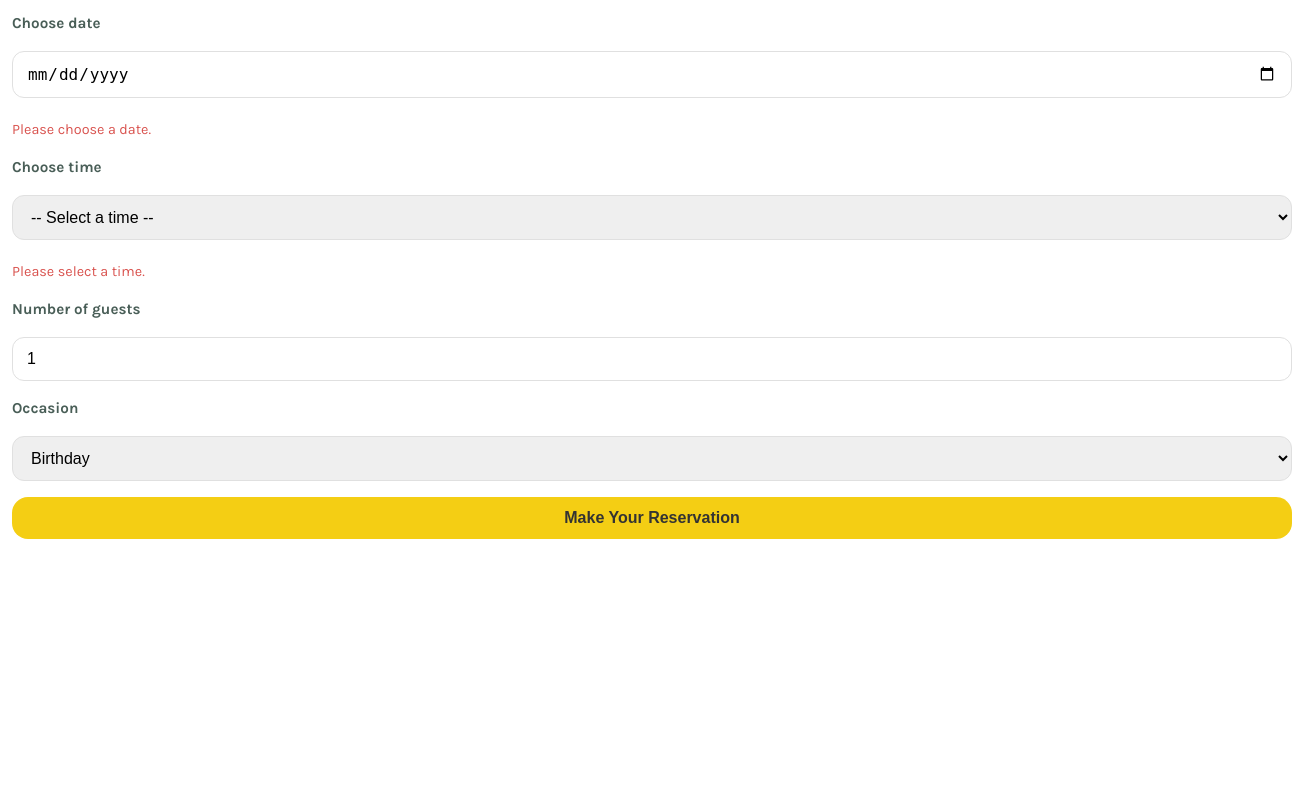
BookingForm › shows error if guests more than 10
This screenshot has width=1304, height=812.
Replace the text in the number field labelled "Number of guests" with "11": (652, 359) x1=12 y1=337 x2=1292 y2=381
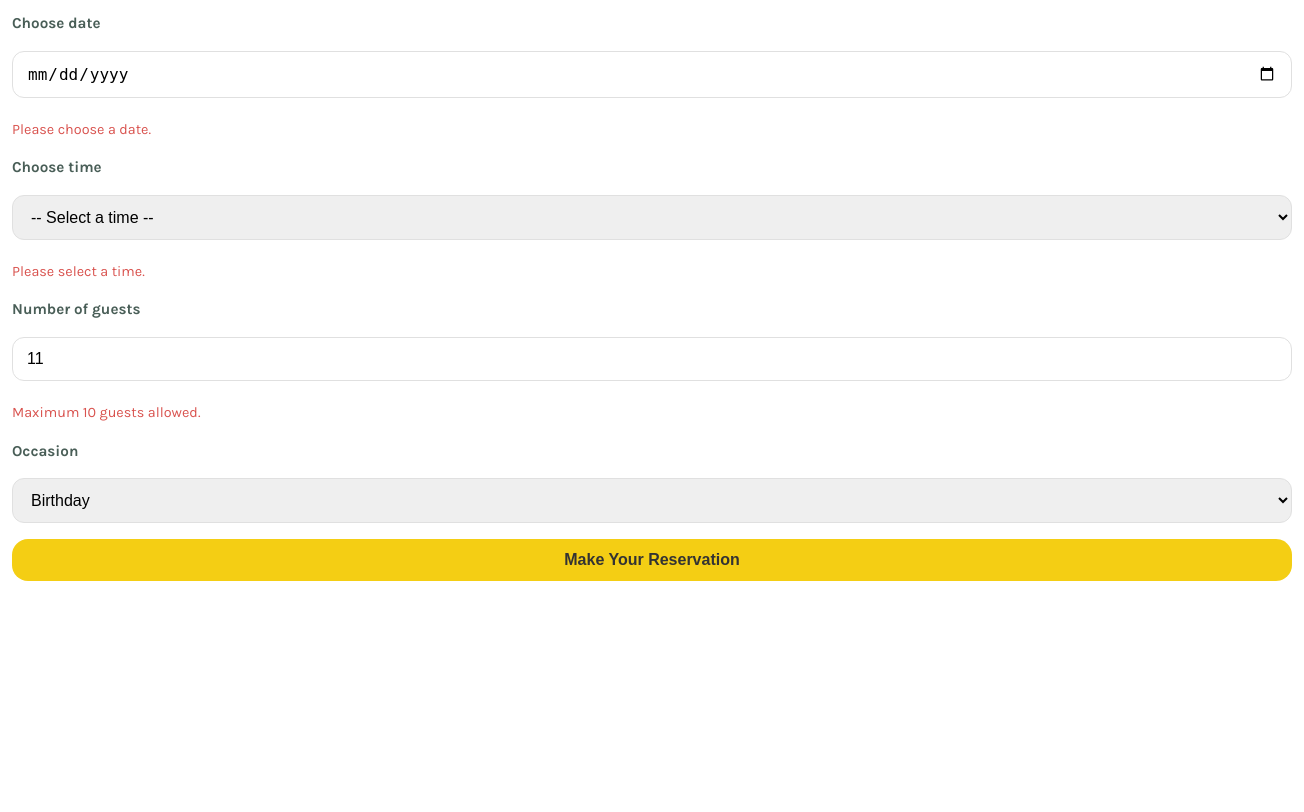
Expected: the text "Maximum 10 guests allowed." is shown, x1=12 y1=404 x2=200 y2=421
